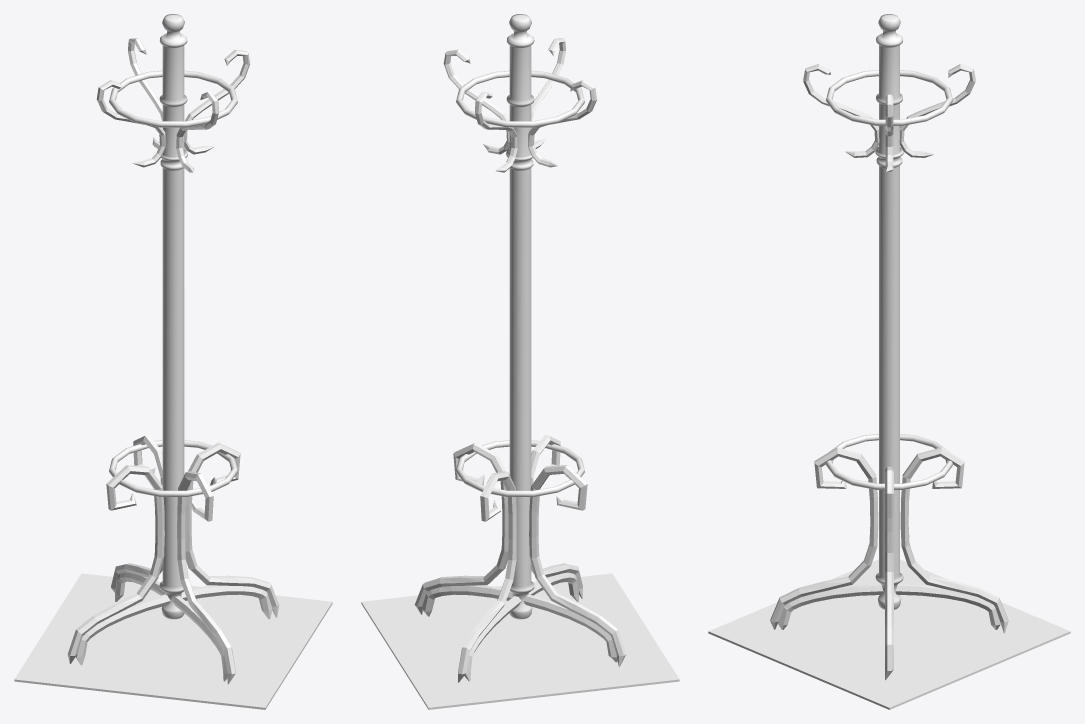
The model's file is Davison-Era hatstand1.dae.
The picture shows the model from 3 angles, left to right: view 1: azimuth 30°, elevation 25°; view 2: azimuth 150°, elevation 25°; view 3: azimuth 270°, elevation 25°; orthographic projection.
Parts seen in each view (by area): view 1: prim13, prim12, prim3, prim5, prim2, prim4, prim0, prim1, prim7, prim6, prim10, prim11 (+2 smaller); view 2: prim13, prim12, prim3, prim6, prim2, prim4, prim0, prim1, prim7, prim5, prim10, prim11 (+2 smaller); view 3: prim13, prim12, prim6, prim5, prim7, prim2, prim0, prim1, prim9, prim8, prim10.
Part boxes in pixels (x1,y1,x2,y2): prim13: (14,573,332,709); prim12: (159,14,187,619); prim3: (67,465,164,663); prim5: (177,471,235,684); prim2: (185,442,279,617); prim4: (75,585,272,665); prim0: (109,70,237,127); prim1: (109,440,237,496); prim7: (115,572,227,681); prim6: (111,435,162,592); prim10: (184,49,250,154); prim11: (96,80,165,167); prim13: (361,573,679,709); prim12: (506,14,534,619); prim3: (529,465,626,666); prim6: (458,471,516,682); prim2: (414,442,508,614); prim4: (421,585,617,662); prim0: (456,70,584,127); prim1: (456,440,584,496); prim7: (464,572,578,681); prim5: (531,435,582,598); prim10: (443,49,509,154); prim11: (528,80,597,167); prim13: (708,559,1070,709); prim12: (875,14,903,609); prim6: (900,447,1008,633); prim5: (770,447,878,629); prim7: (778,584,1000,629); prim2: (885,466,893,680); prim0: (826,70,952,125); prim1: (826,434,952,489); prim9: (899,64,975,157); prim8: (803,64,879,157); prim10: (885,94,893,171).
Bounding box in the file's own units: 1.59 × 1.59 × 3.
Materials: 3 (2 with a texture image).
